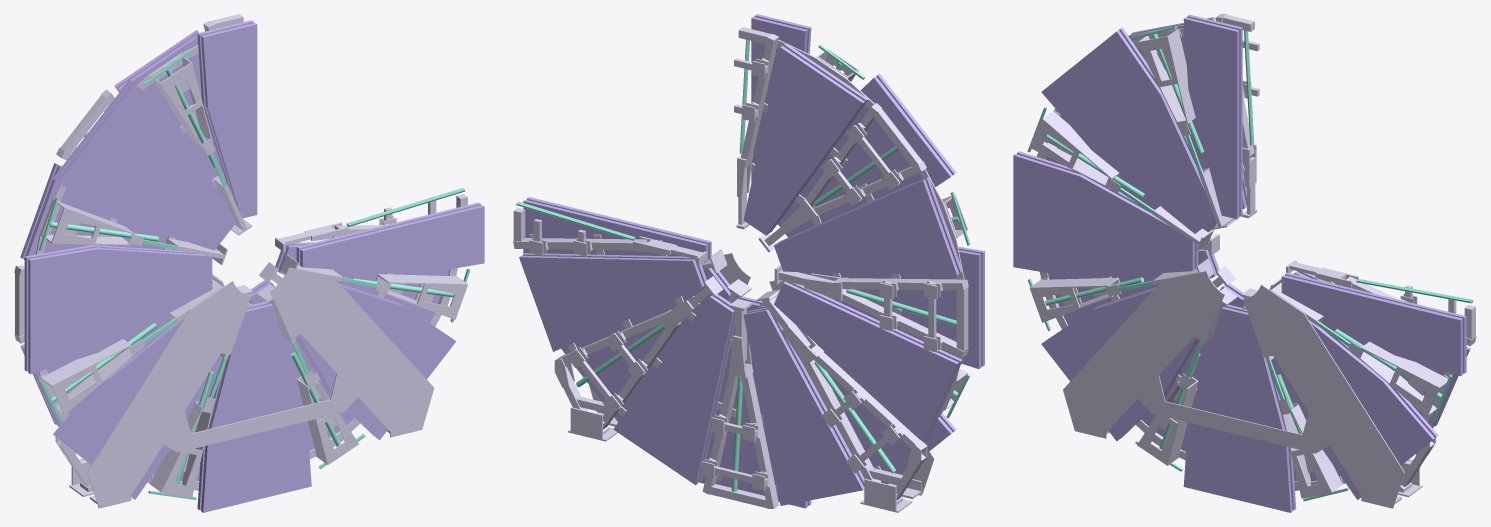
File: Small-Wheel-Chambers-SideA-cut4.glb
3 renders of one model, left to right at view 1: azimuth 30°, elevation 25°; view 2: azimuth 150°, elevation 25°; view 3: azimuth 330°, elevation 25°, orthographic.
Parts seen in each view (by area): view 1: null; view 2: null; view 3: null.
Part boxes in pixels (x1=…): null: x1=14, y1=14, x2=484, y2=512; null: x1=513, y1=14, x2=984, y2=512; null: x1=1013, y1=14, x2=1476, y2=512.
Size of the model in its own units: 9.29 by 9.29 by 0.9681.
